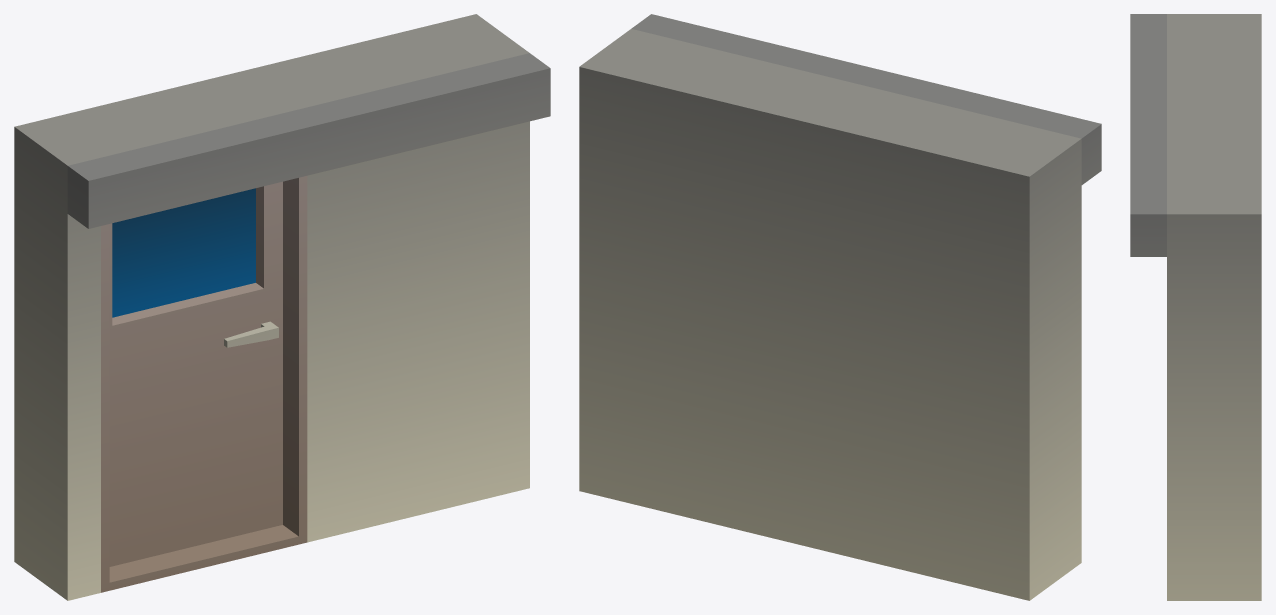
Rendered from B02_porte_2.fbx.
3 views of the same model, side by side, from view 1: azimuth 30°, elevation 25°; view 2: azimuth 150°, elevation 25°; view 3: azimuth 270°, elevation 25° (orthographic). The views are drawn at different scales.
Parts seen in each view (by area): view 1: B02_porte_2; view 2: B02_porte_2; view 3: B02_porte_2.
Boxes of the visible parts, <box> form: B02_porte_2: <box>14,14,550,600</box>; B02_porte_2: <box>579,14,1101,600</box>; B02_porte_2: <box>1130,14,1261,600</box>.
Bounding box in the file's own units: 500 × 450 × 139.
